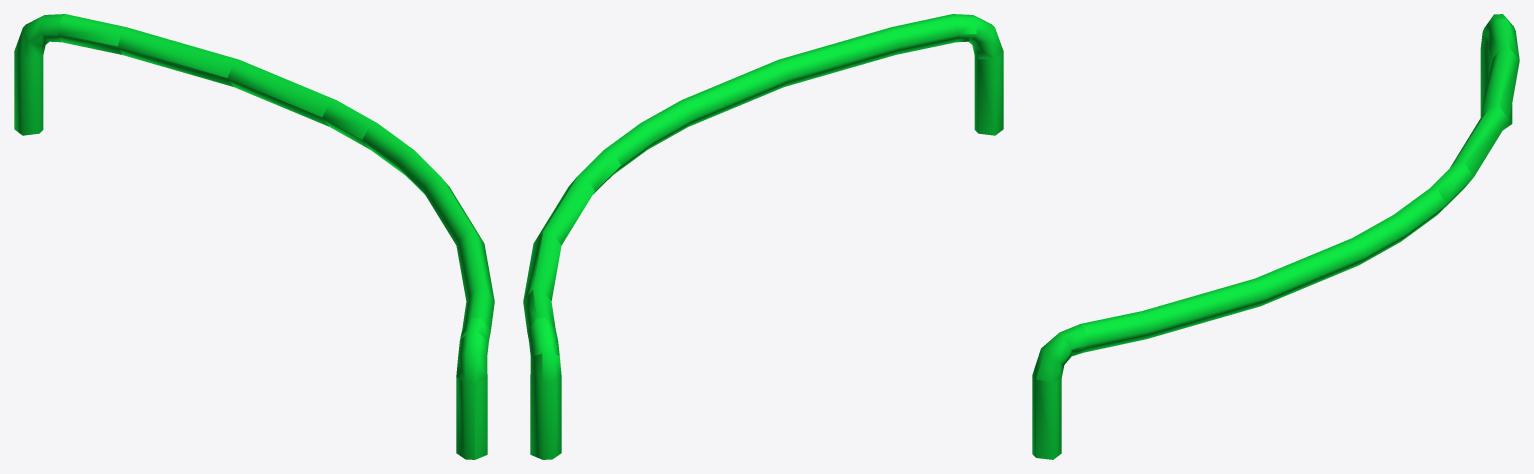
Rendered from Fence_01_B.fbx.
3 views of the same model, side by side, from view 1: azimuth 30°, elevation 25°; view 2: azimuth 150°, elevation 25°; view 3: azimuth 330°, elevation 25° (orthographic).
Parts seen in each view (by area): view 1: Fence_01_B; view 2: Fence_01_B; view 3: Fence_01_B.
Part boxes in pixels (box(x1,y1,x2,y2)): Fence_01_B: box(14, 14, 494, 459); Fence_01_B: box(523, 14, 1003, 459); Fence_01_B: box(1032, 14, 1519, 459).
Bounding box in the file's own units: 3.27 × 2.28 × 15.73.
